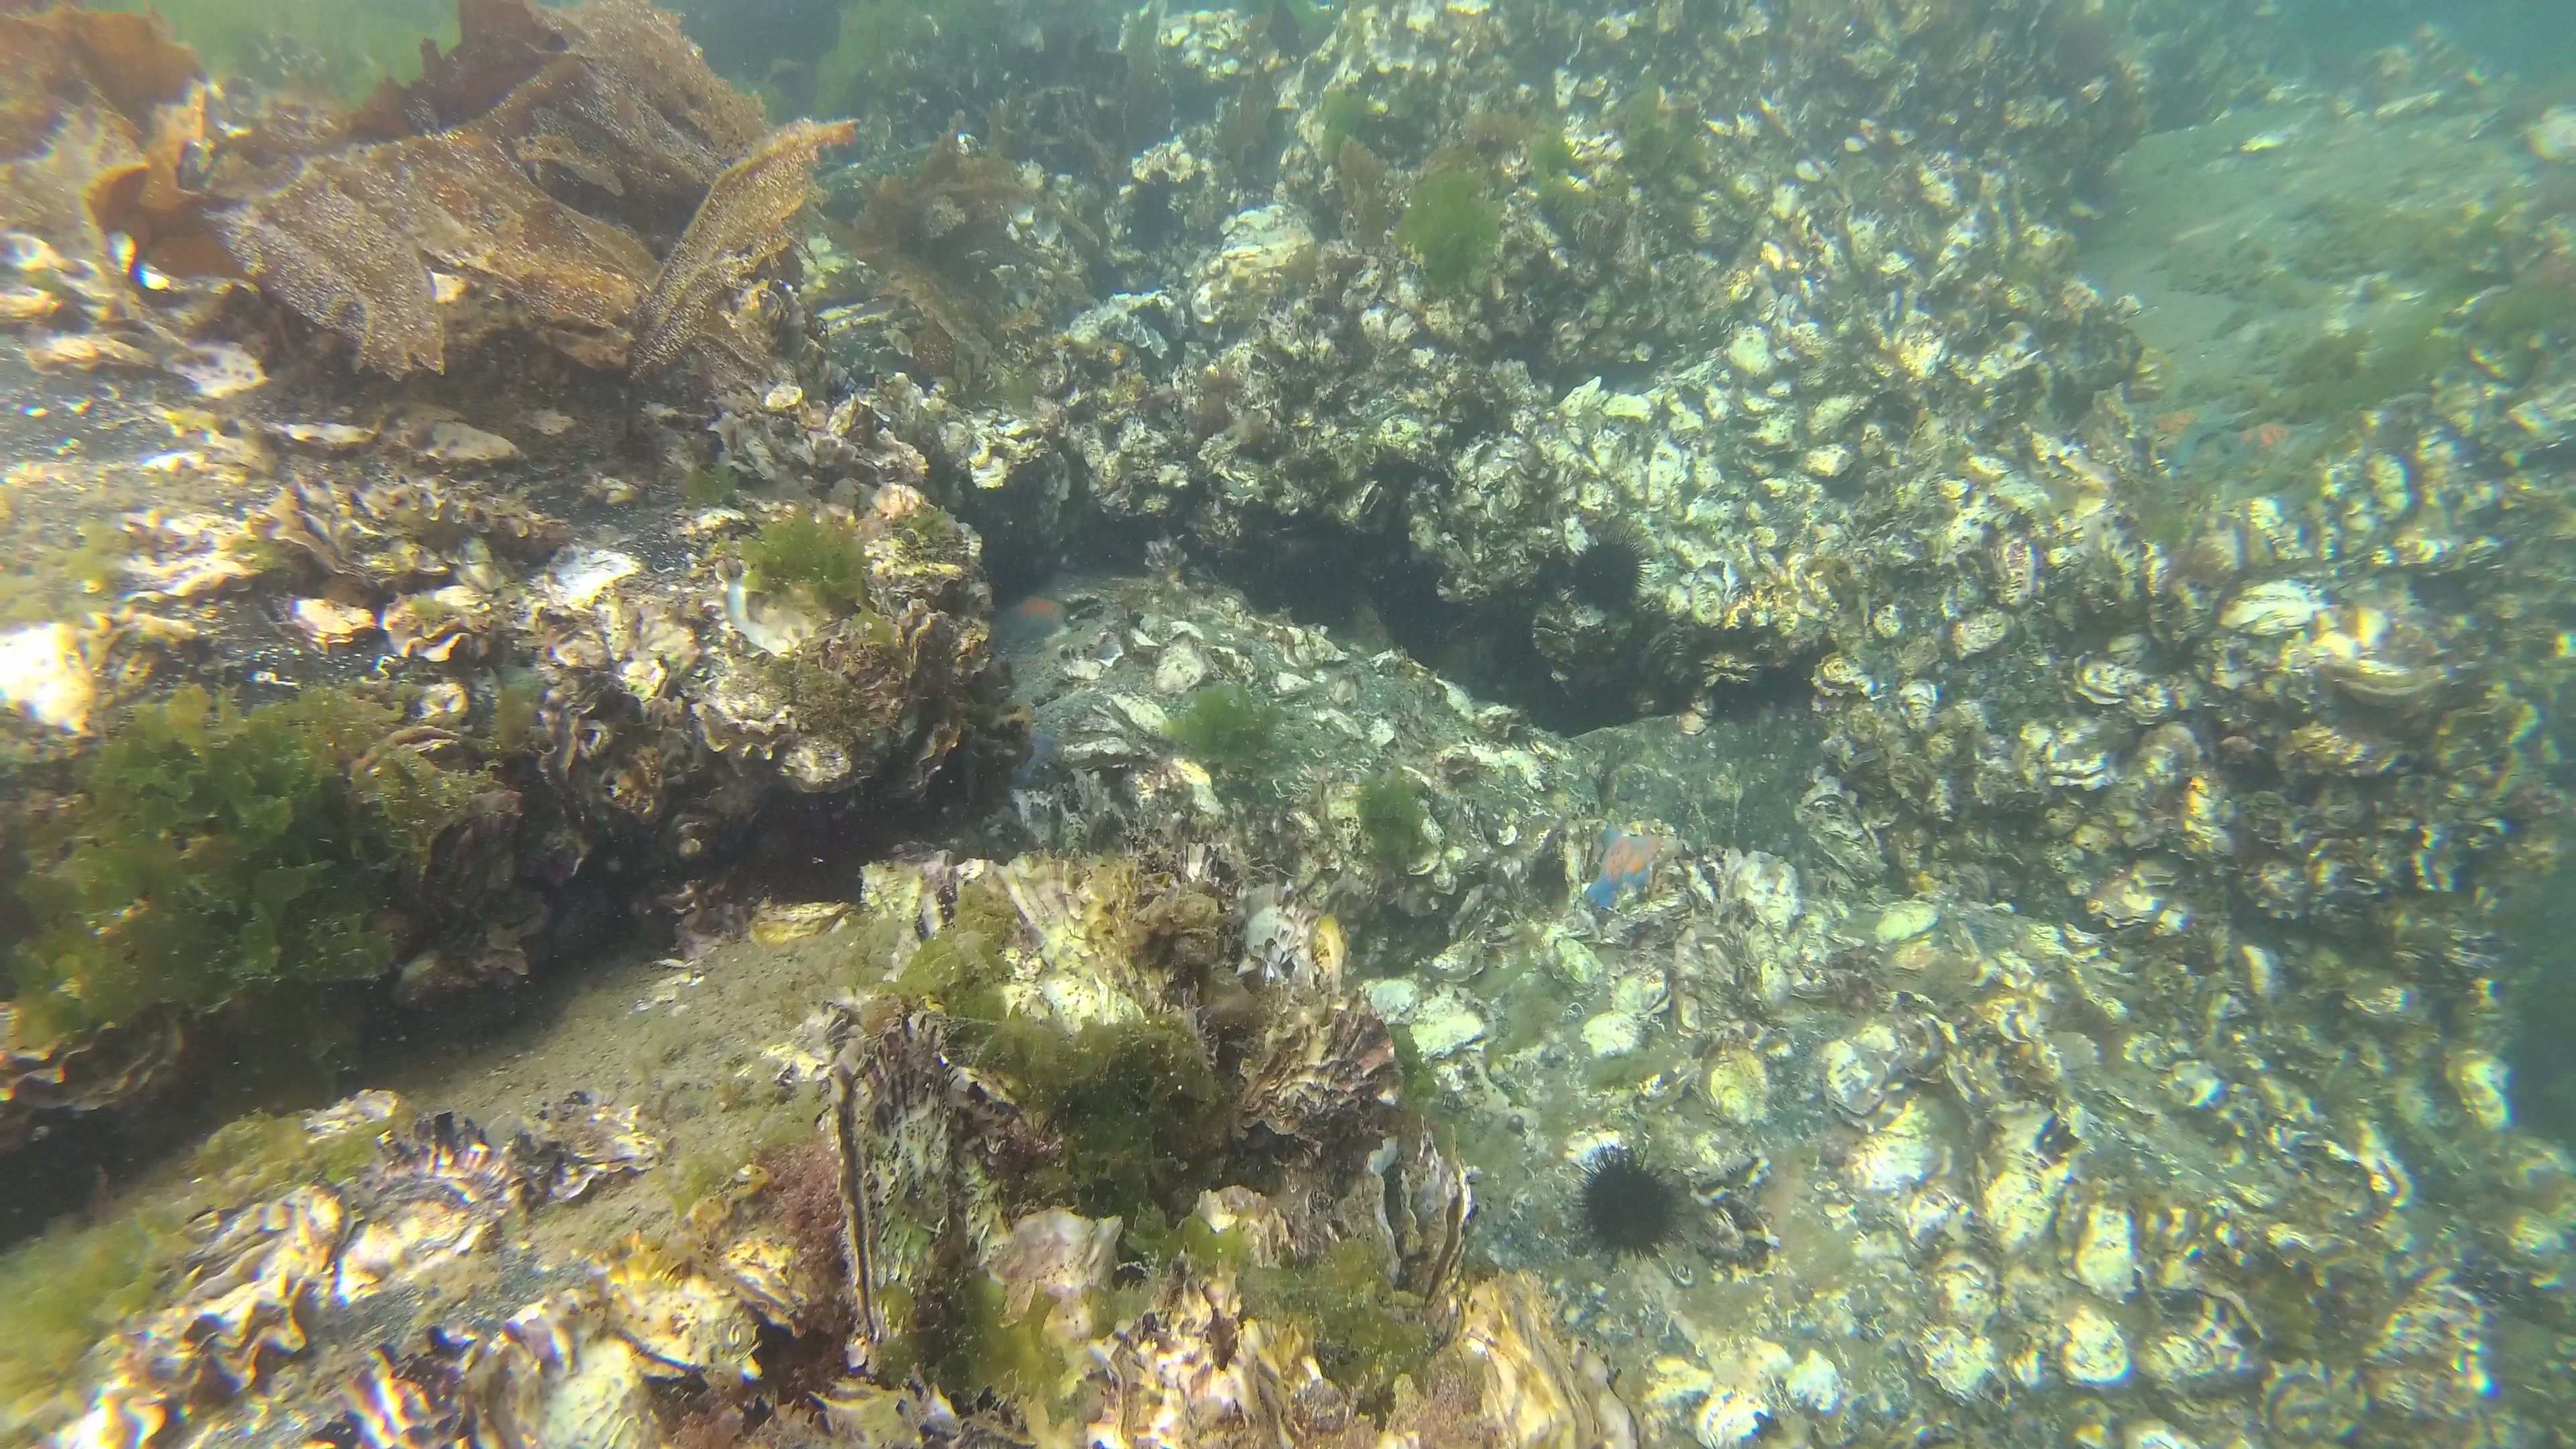echinus: (1573, 1152, 1684, 1265), (1569, 533, 1652, 610)
starfish: (1589, 826, 1683, 911), (2141, 400, 2240, 460), (982, 594, 1069, 653), (2229, 421, 2321, 467)
